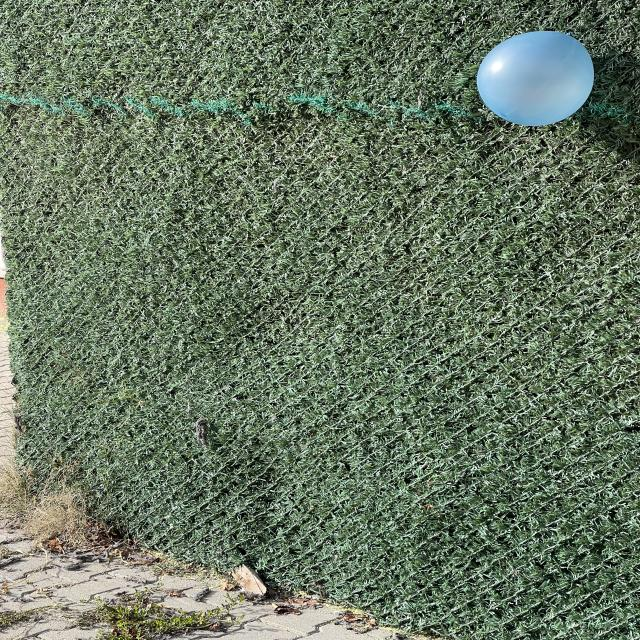balloon: (477, 31, 594, 126)
